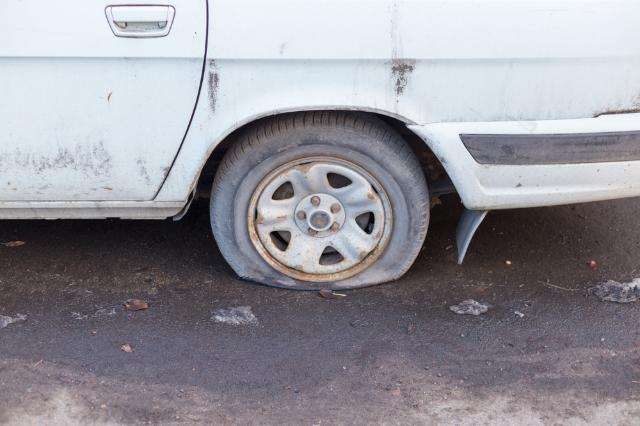tire flat: (211, 113, 431, 292)
